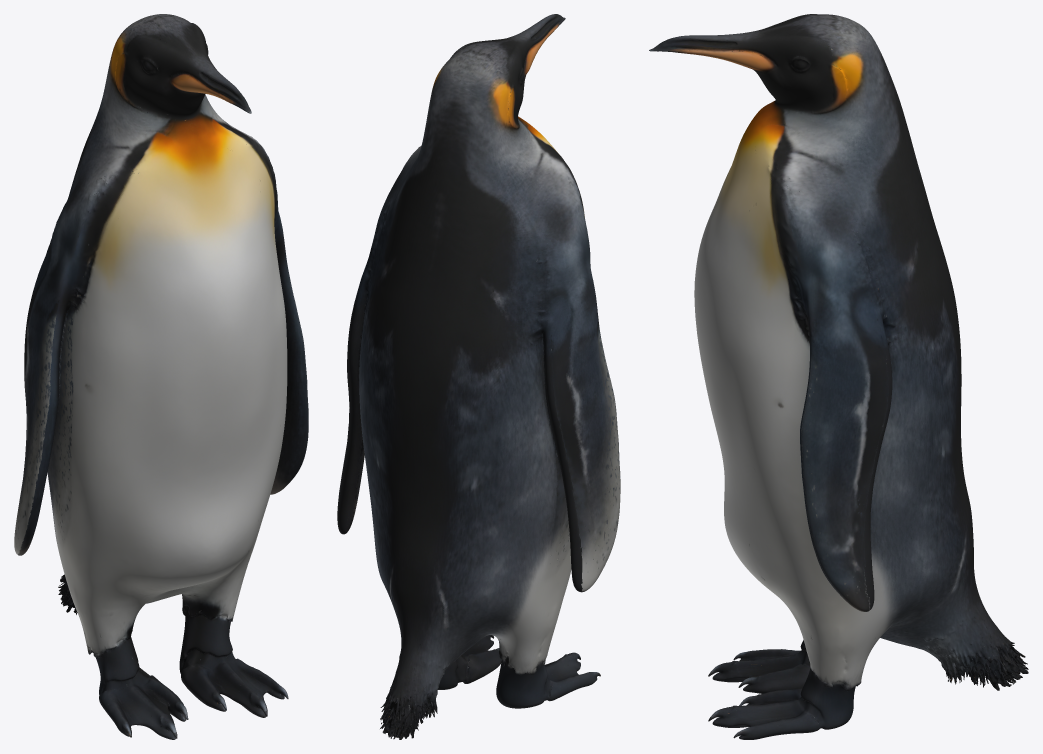
The model's file is penguin.glb.
The picture shows the model from 3 angles, left to right: view 1: azimuth 30°, elevation 25°; view 2: azimuth 150°, elevation 25°; view 3: azimuth 270°, elevation 25°; orthographic projection. The views are drawn at different scales.
Size of the model in its own units: 0.8725 by 2 by 1.
1 material, 1 textured.
